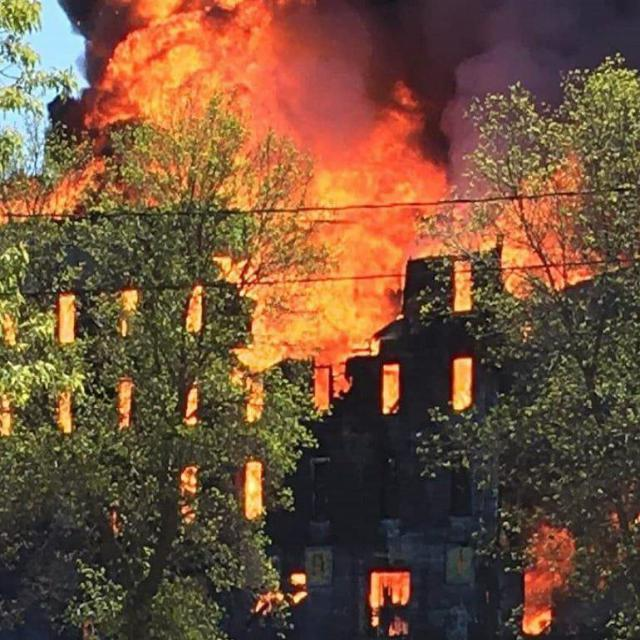Fire: (26, 16, 606, 495)
